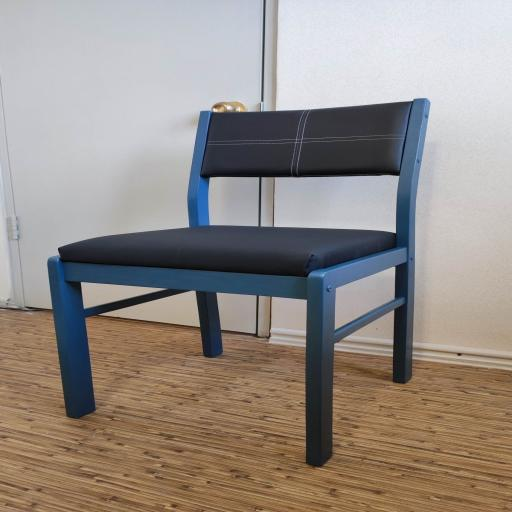bus: (49, 99, 429, 465)
